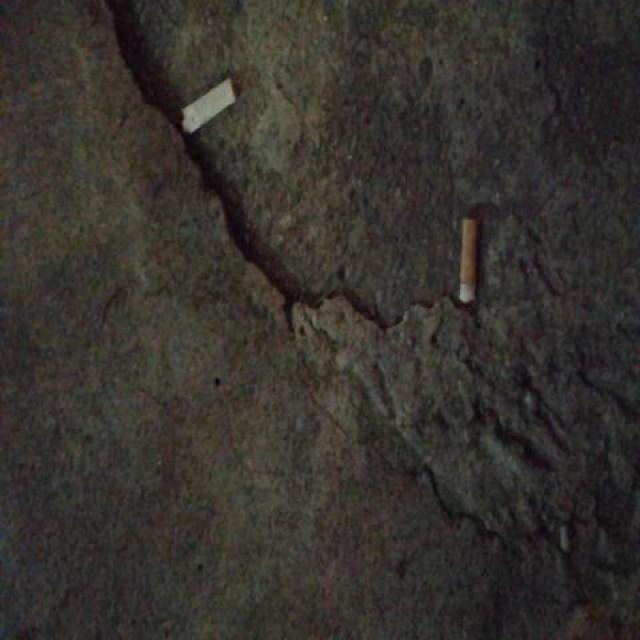non-organic waste: (176, 71, 236, 142), (454, 214, 482, 307)
